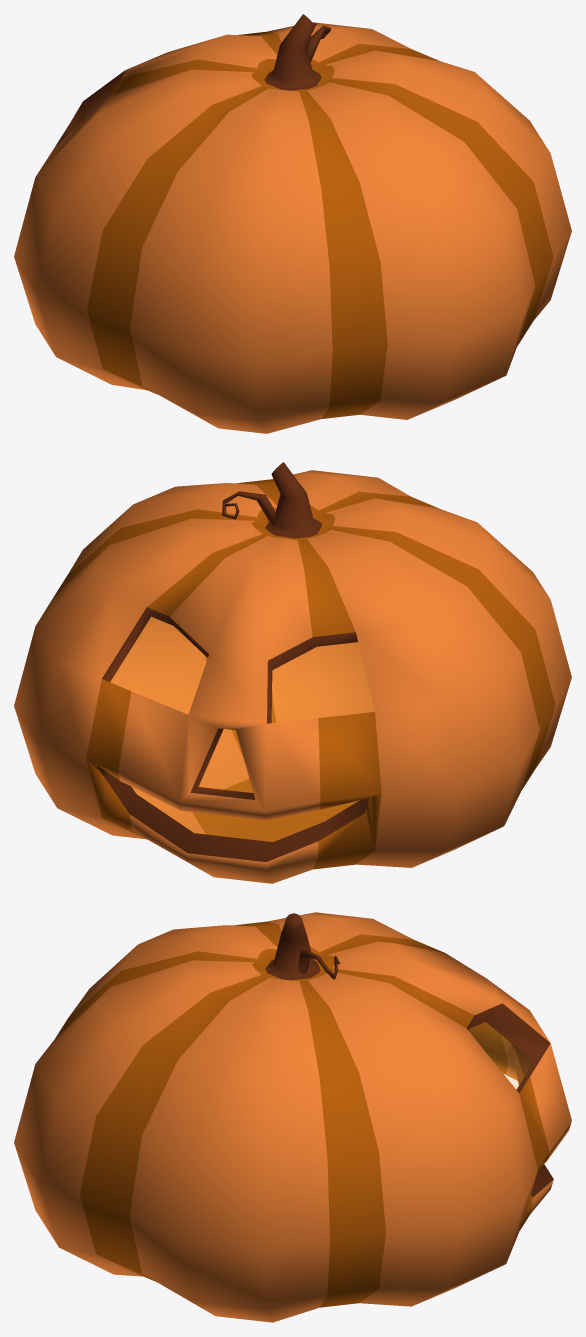
File: Jack-O-Lantern.fbx
The picture shows the model from 3 angles, top to bottom: view 1: azimuth 30°, elevation 25°; view 2: azimuth 150°, elevation 25°; view 3: azimuth 270°, elevation 25°; orthographic projection.
Visible parts, largest first — view 1: Jack-o-lantern; view 2: Jack-o-lantern; view 3: Jack-o-lantern.
Boxes of the visible parts, x1=… form: Jack-o-lantern: x1=14, y1=14, x2=571, y2=433; Jack-o-lantern: x1=14, y1=462, x2=571, y2=883; Jack-o-lantern: x1=14, y1=912, x2=571, y2=1322.
Size of the model in its own units: 206 by 143 by 207.
